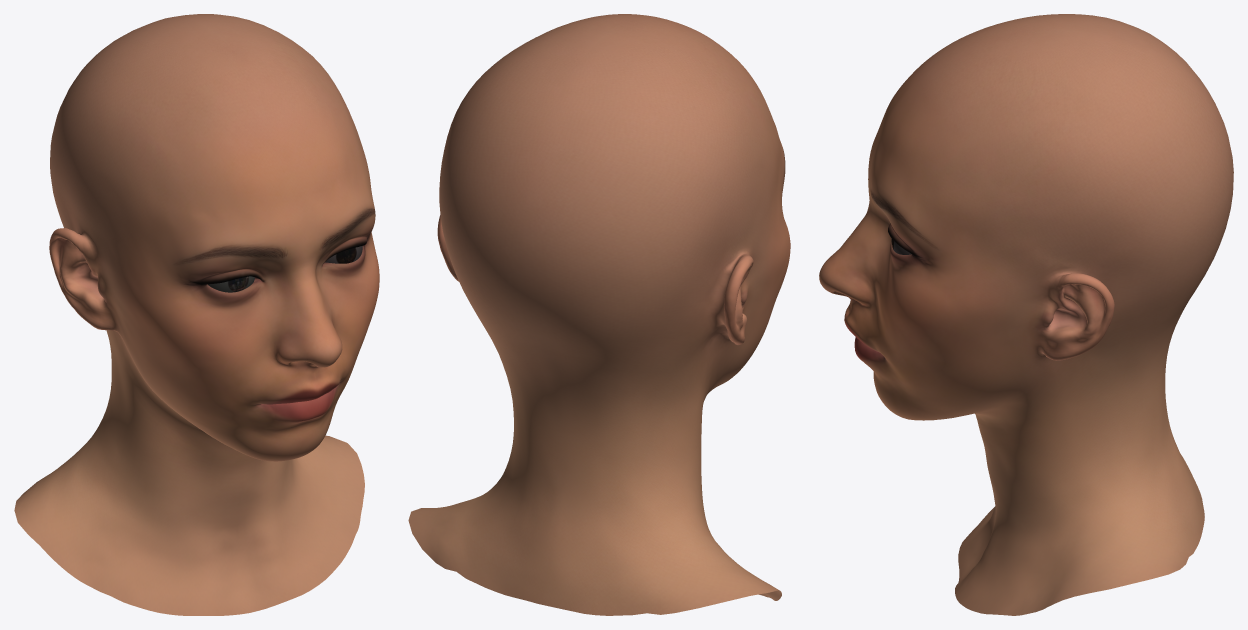
3 renders of one model, left to right at view 1: azimuth 30°, elevation 25°; view 2: azimuth 150°, elevation 25°; view 3: azimuth 270°, elevation 25°, orthographic. The views are drawn at different scales.
Visible parts, largest first — view 1: Registered head; view 2: Registered head; view 3: Registered head.
Part boxes in pixels (box(x1,y1,x2,y2)): Registered head: box(14, 14, 379, 615); Registered head: box(408, 14, 790, 615); Registered head: box(819, 14, 1233, 615).
Bounding box in the file's own units: 1.22 × 1.9 × 1.29.
Materials: 3 (3 with a texture image).
